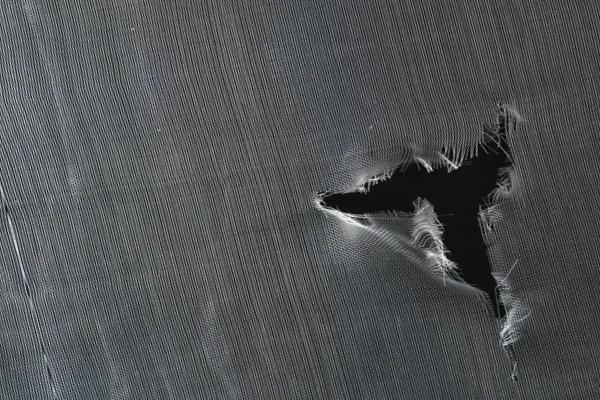hole: (306, 101, 526, 330)
